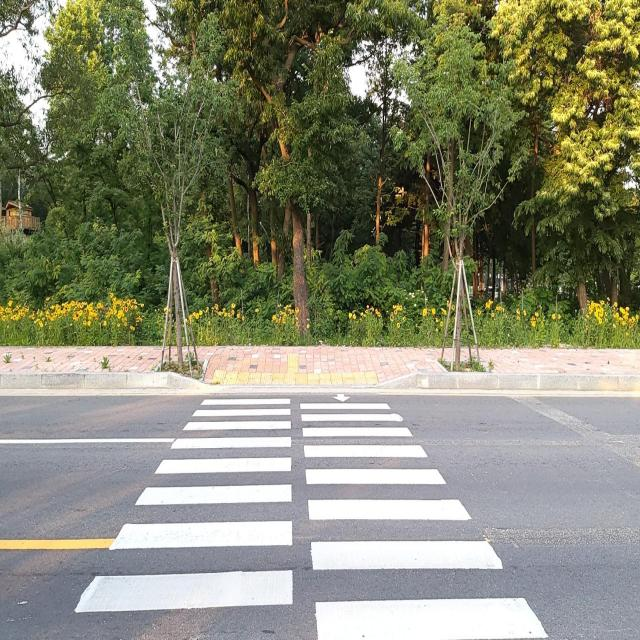횡단보도: (70, 390, 554, 640)
